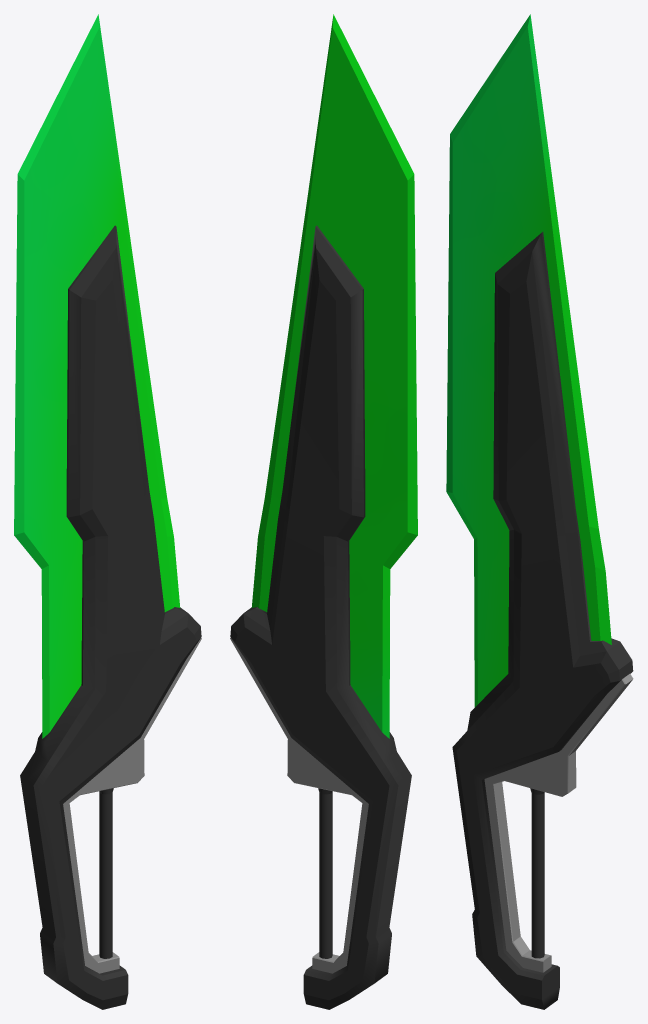
The model's file is blade.fbx.
3 renders of one model, left to right at view 1: azimuth 30°, elevation 25°; view 2: azimuth 150°, elevation 25°; view 3: azimuth 330°, elevation 25°, orthographic.
Parts seen in each view (by area): view 1: blade; view 2: blade; view 3: blade.
Boxes of the visible parts, x1,y1,x2,y2 form: blade: (14,14,201,1009); blade: (230,14,417,1009); blade: (446,14,633,1009).
Bounding box in the file's own units: 1.31 × 6.75 × 0.2275.
1 material, 1 textured.
